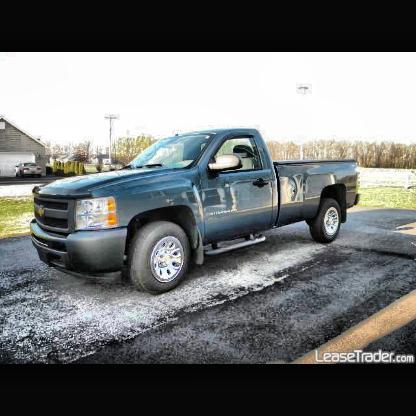Chevrolet Silverado 1500 Regular Cab 2012: (30, 127, 362, 295)
